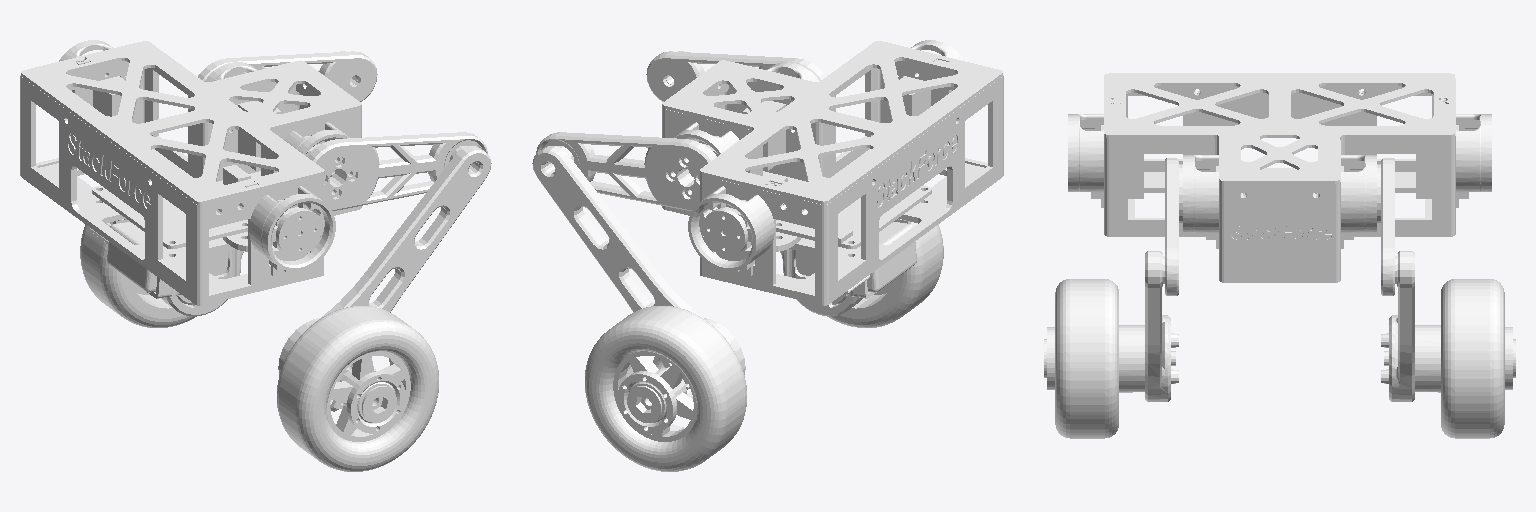
robot.urdf — sf:
<?xml version="1.0" encoding="utf-8"?>
<!-- This URDF was automatically created by SolidWorks to URDF Exporter! Originally created by Stephen Brawner (brawner@gmail.com) 
     Commit Version: 1.6.0-4-g7f85cfe  Build Version: 1.6.7995.38578
     For more information, please see http://wiki.ros.org/sw_urdf_exporter -->
<robot
  name="sf">
  <link
    name="base_link">
    <inertial>
      <origin
        xyz="-0.01061482 0.00099738 0.00967173"
        rpy="0 0 0" />
      <mass
        value="0.31447146" />
      <inertia
        ixx="0.00059457"
        ixy="-0.00000632"
        ixz="-0.00004216"
        iyy="0.00032382"
        iyz="-0.00000305"
        izz="0.00071675" />
    </inertial>
    <visual>
      <origin
        xyz="0 0 0"
        rpy="0 0 0" />
      <geometry>
        <mesh
          filename="../meshes/base_link.STL" />
      </geometry>
      <material
        name="">
        <color
          rgba="1 1 1 1" />
      </material>
    </visual>
     <!-- 防倾倒支撑点 - collision only, 无摩擦球体 -->
    <!-- 左前支撑点 -->
    
    <collision>
      <origin xyz="0.13 0.09 -0.03" rpy="0 0 0" />
      <geometry>
        <sphere radius="0.01"/>
      </geometry>
      <surface>
        <friction>
          <ode>
            <mu>0.001</mu>
            <mu2>0.001</mu2>
          </ode>
        </friction>
      </surface>
    </collision>
    
    <!-- 右前支撑点 -->
    <collision>
      <origin xyz="0.13 -0.09 -0.03" rpy="0 0 0" />
      <geometry>
        <sphere radius="0.01"/>
      </geometry>
      <surface>
        <friction>
          <ode>
            <mu>0.001</mu>
            <mu2>0.001</mu2>
          </ode>
        </friction>
      </surface>
    </collision>
    
    <!-- 左后支撑点 -->
    <collision>
      <origin xyz="-0.115 0.09 -0.03" rpy="0 0 0" />
      <geometry>
        <sphere radius="0.01"/>
      </geometry>
      <surface>
        <friction>
          <ode>
            <mu>0.001</mu>
            <mu2>0.001</mu2>
          </ode>
        </friction>
      </surface>
    </collision>
    
    <!-- 右后支撑点 -->
    <collision>
      <origin xyz="-0.115 -0.09 -0.03" rpy="0 0 0" />
      <geometry>
        <sphere radius="0.01"/>
      </geometry>
      <surface>
        <friction>
          <ode>
            <mu>0.001</mu>
            <mu2>0.001</mu2>
          </ode>
        </friction>
      </surface>
    </collision>

    <collision>
      <origin
        xyz="0 0 0"
        rpy="0 0 0" />
      <geometry>
        <mesh
          filename="../meshes/base_link.STL" />
      </geometry>
    </collision>


    <!-- <collision>
      <origin xyz="0.04 0 0.025" rpy="0 0 0" />
      <geometry>
      <box size="0.60 0.02 0.02"/>
      </geometry>
    </collision> -->
  </link>
  <link
    name="lf0_Link">
    <inertial>
      <origin
        xyz="0.01893013 -0.00214203 -0.00531205"
        rpy="0 0 0" />
      <mass
        value="0.01580000" />
      <inertia
        ixx="0.00000111"
        ixy="0.00000080"
        ixz="0.00000011"
        iyy="0.00000809"
        iyz="-0.00000001"
        izz="0.00000906" />
    </inertial>
    <visual>
      <origin
        xyz="0 0 0"
        rpy="0 0 0" />
      <geometry>
        <mesh
          filename="../meshes/lf0_Link.STL" />
      </geometry>
      <material
        name="">
        <color
          rgba="1 1 1 1" />
      </material>
    </visual>
    <collision>
      <origin
        xyz="0 0 0"
        rpy="0 0 0" />
      <geometry>
        <mesh
          filename="../meshes/lf0_Link.STL" />
      </geometry>
    </collision>
  </link>
  <joint
    name="lf0_Joint"
    type="revolute">
    <origin
      xyz="0.0357699323358855 0.0387 0.0263"
      rpy="1.5707963267949 0 0" />
    <parent
      link="base_link" />
    <child
      link="lf0_Link" />
    <axis
      xyz="0 0 -1" />
    <limit
      lower="-0.34"
      upper="1.35"
      effort="0.8"
      velocity="20" />
    <dynamics
      friction="0.00"
      damping="0.35" />
  </joint>
  <link
    name="lf1_Link">
    <inertial>
      <origin
        xyz="-0.06054716 -0.06391204 -0.01214209"
        rpy="0 0 0" />
      <mass
        value="0.06540000" />
      <inertia
        ixx="0.00003375"
        ixy="-0.00002435"
        ixz="-0.00000218"
        iyy="0.00003119"
        iyz="-0.00000229"
        izz="0.00005737" />
    </inertial>
    <visual>
      <origin
        xyz="0 0 0"
        rpy="0 0 0" />
      <geometry>
        <mesh
          filename="../meshes/lf1_Link.STL" />
      </geometry>
      <material
        name="">
        <color
          rgba="1 1 1 1" />
      </material>
    </visual>
    <collision>
      <origin
        xyz="0 0 0"
        rpy="0 0 0" />
      <geometry>
        <mesh
          filename="../meshes/lf1_Link.STL" />
      </geometry>
    </collision>
  </link>
  <joint
    name="lf1_Joint"
    type="revolute">
    <origin
      xyz="0.0596195308561142 -0.00674622416592 -0.005"
      rpy="0 0 0" />
    <parent
      link="lf0_Link" />
    <child
      link="lf1_Link" />
    <axis
      xyz="0 0 -1" />
    <limit
      lower="-1.25"
      upper="0.3"
      effort="0.8"
      velocity="20" />
    <dynamics
      friction="0.00"
      damping="0.35" />
  </joint>
  <link
    name="l_wheel_Link">
    <inertial>
      <origin
        xyz="0.00000000 0.00000000 0.01172333"
        rpy="0 0 0" />
      <mass
        value="0.03250227" />
      <inertia
        ixx="0.00001236"
        ixy="0.00000000"
        ixz="0.00000000"
        iyy="0.00001236"
        iyz="0.00000000"
        izz="0.00002097" />
    </inertial>
    <visual>
      <origin
        xyz="0 0 0"
        rpy="0 0 0" />
      <geometry>
        <mesh
          filename="../meshes/l_wheel_Link.STL" />
      </geometry>
      <material
        name="">
        <color
          rgba="1 1 1 1" />
      </material>
    </visual>
    <collision>
      <origin
        xyz="0 0 0"
        rpy="0 0 0" />
      <geometry>
        <mesh
          filename="../meshes/l_wheel_Link.STL" />
      </geometry>
    </collision>
  </link>
  <joint
    name="l_wheel_Joint"
    type="revolute">
    <origin
      xyz="-0.06874236401842 -0.0725479710647465 -0.0496"
      rpy="0 0 0" />
    <parent
      link="lf1_Link" />
    <child
      link="l_wheel_Link" />
    <axis
      xyz="0 0 -1" />
    <limit
      effort="0.1"
      velocity="100" />
     <dynamics
      friction="0.0015"
      damping="0.00" />
  </joint>
  <link
    name="rf0_Link">
    <inertial>
      <origin
        xyz="0.01893013 -0.00214203 0.00531205"
        rpy="0 0 0" />
      <mass
        value="0.01580000" />
      <inertia
        ixx="0.00000111"
        ixy="0.00000080"
        ixz="-0.00000011"
        iyy="0.00000809"
        iyz="0.00000001"
        izz="0.00000906" />
    </inertial>
    <visual>
      <origin
        xyz="0 0 0"
        rpy="0 0 0" />
      <geometry>
        <mesh
          filename="../meshes/rf0_Link.STL" />
      </geometry>
      <material
        name="">
        <color
          rgba="1 1 1 1" />
      </material>
    </visual>
    <collision>
      <origin
        xyz="0 0 0"
        rpy="0 0 0" />
      <geometry>
        <mesh
          filename="../meshes/rf0_Link.STL" />
      </geometry>
    </collision>
  </link>
  <joint
    name="rf0_Joint"
    type="revolute">
    <origin
      xyz="0.0357699323358855 -0.0387 0.0263"
      rpy="1.5707963267949 0 0" />
    <parent
      link="base_link" />
    <child
      link="rf0_Link" />
    <axis
      xyz="0 0 1" />
    <limit
      lower="-1.35"
      upper="0.34"
      effort="0.8"
      velocity="20" />
    <dynamics
      friction="0.00"
      damping="0.35" />
  </joint>
  <link
    name="rf1_Link">
    <inertial>
      <origin
        xyz="-0.06054717 -0.06391203 0.01214209"
        rpy="0 0 0" />
      <mass
        value="0.06540000" />
      <inertia
        ixx="0.00003375"
        ixy="-0.00002435"
        ixz="0.00000218"
        iyy="0.00003119"
        iyz="0.00000229"
        izz="0.00005737" />
    </inertial>
    <visual>
      <origin
        xyz="0 0 0"
        rpy="0 0 0" />
      <geometry>
        <mesh
          filename="../meshes/rf1_Link.STL" />
      </geometry>
      <material
        name="">
        <color
          rgba="1 1 1 1" />
      </material>
    </visual>
    <collision>
      <origin
        xyz="0 0 0"
        rpy="0 0 0" />
      <geometry>
        <mesh
          filename="../meshes/rf1_Link.STL" />
      </geometry>
    </collision>
  </link>
  <joint
    name="rf1_Joint"
    type="revolute">
    <origin
      xyz="0.0596195308561149 -0.00674622416591412 0.005"
      rpy="0 0 0" />
    <parent
      link="rf0_Link" />
    <child
      link="rf1_Link" />
    <axis
      xyz="0 0 1" />
    <limit
      lower="-0.3"
      upper="1.25"
      effort="0.8"
      velocity="20" />
    <dynamics
      friction="0.00"
      damping="0.35" />
  </joint>
  <link
    name="r_wheel_Link">
    <inertial>
      <origin
        xyz="0.00000000 0.00000000 -0.01172333"
        rpy="0 0 0" />
      <mass
        value="0.03250227" />
      <inertia
        ixx="0.00001236"
        ixy="0.00000000"
        ixz="0.00000000"
        iyy="0.00001236"
        iyz="0.00000000"
        izz="0.00002097" />
    </inertial>
    <visual>
      <origin
        xyz="0 0 0"
        rpy="0 0 0" />
      <geometry>
        <mesh
          filename="../meshes/r_wheel_Link.STL" />
      </geometry>
      <material
        name="">
        <color
          rgba="1 1 1 1" />
      </material>
    </visual>
    <collision>
      <origin
        xyz="0 0 0"
        rpy="0 0 0" />
      <geometry>
        <mesh
          filename="../meshes/r_wheel_Link.STL" />
      </geometry>
    </collision>
  </link>
  <joint
    name="r_wheel_Joint"
    type="revolute">
    <origin
      xyz="-0.0687423640184202 -0.0725479710647624 0.0496000000000063"
      rpy="0 0 0" />
    <parent
      link="rf1_Link" />
    <child
      link="r_wheel_Link" />
    <axis
      xyz="0 0 1" />
    <limit
      effort="0.1"
      velocity="100" />
    <dynamics
      friction="0.0015"
      damping="0.00" />
  </joint>
</robot>

--- Render facts (derived) ---
Views: 3 orthographic renders of the robot side by side, from view 1: azimuth 30°, elevation 25°; view 2: azimuth 150°, elevation 25°; view 3: azimuth 270°, elevation 25°.
Model sf with 7 links and 6 joints (6 revolute), rooted at base_link, posed all joints at 0.
Visible links, largest first — view 1: base_link, r_wheel_Link, rf1_Link, rf0_Link, l_wheel_Link, lf0_Link, lf1_Link; view 2: base_link, l_wheel_Link, lf1_Link, lf0_Link, r_wheel_Link, rf0_Link, rf1_Link; view 3: base_link, r_wheel_Link, l_wheel_Link, rf1_Link, lf1_Link, lf0_Link, rf0_Link.
Link boxes in pixels (x1,y1,x2,y2): base_link: [20, 40, 361, 305]; r_wheel_Link: [277, 306, 438, 471]; rf1_Link: [278, 146, 491, 411]; rf0_Link: [307, 132, 487, 210]; l_wheel_Link: [80, 222, 196, 327]; lf0_Link: [198, 51, 377, 101]; lf1_Link: [161, 51, 357, 316]; base_link: [662, 40, 1003, 305]; l_wheel_Link: [585, 306, 746, 471]; lf1_Link: [532, 146, 745, 398]; lf0_Link: [536, 132, 716, 210]; r_wheel_Link: [827, 222, 943, 327]; rf0_Link: [646, 51, 825, 101]; rf1_Link: [666, 51, 862, 316]; base_link: [1068, 73, 1491, 282]; r_wheel_Link: [1044, 279, 1118, 438]; l_wheel_Link: [1441, 279, 1515, 438]; rf1_Link: [1119, 251, 1178, 401]; lf1_Link: [1381, 251, 1440, 401]; lf0_Link: [1377, 158, 1394, 295]; rf0_Link: [1165, 158, 1182, 295].
Bounding box of the posed robot: 0.1506 × 0.1946 × 0.13 m (x, y, z).
Meshes: 7 distinct files referenced, 7 mesh visuals loaded (7 binary STL).
